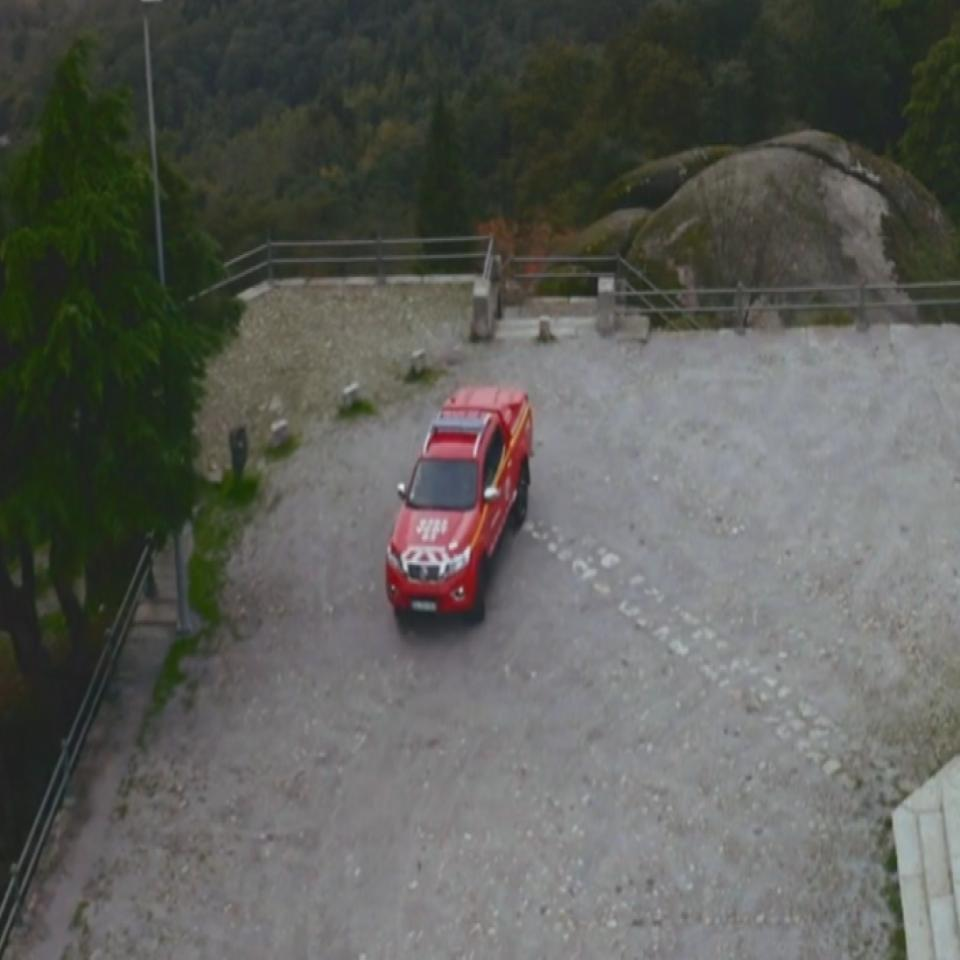viatura: (385, 384, 533, 626)
